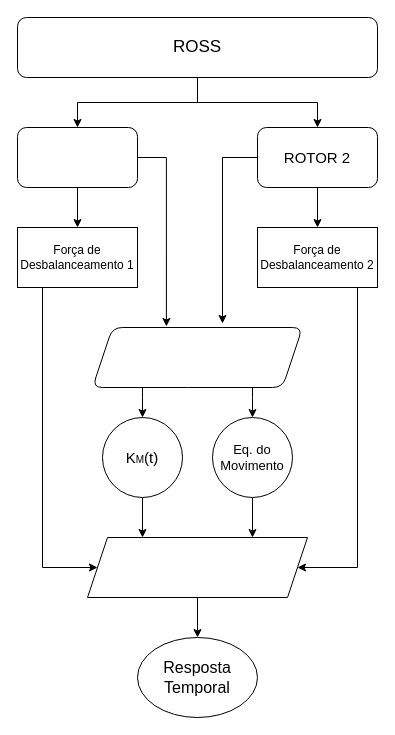
This 395x735 diagram has some shape labels left out. Each missing label, with the centre of its shape:
"Backlash Dinâmico" goes at pixel 197 567.
"MultiRotor()" goes at pixel 197 357.
"ROTOR 1" goes at pixel 77 157.
